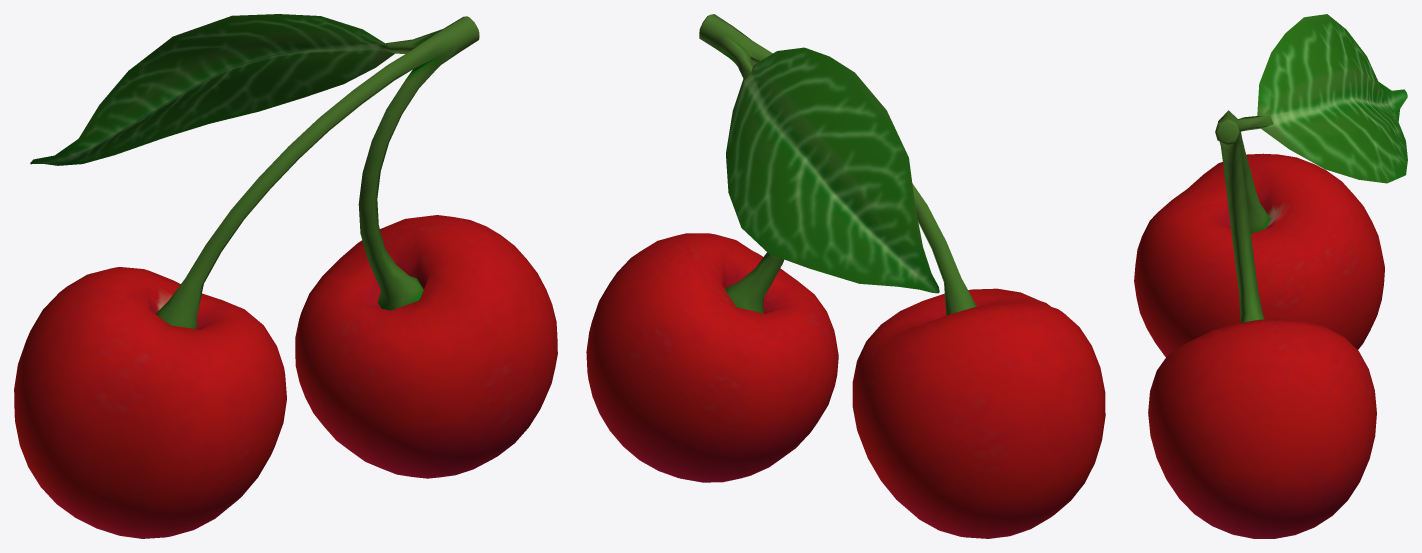
File: cherry_final.glb
3 renders of one model, left to right at view 1: azimuth 30°, elevation 25°; view 2: azimuth 150°, elevation 25°; view 3: azimuth 270°, elevation 25°, orthographic. The views are drawn at different scales.
Visible parts, largest first — view 1: cherry; view 2: cherry; view 3: cherry.
Boxes of the visible parts, x1,y1,x2,y2 form: cherry: (14, 14, 557, 538); cherry: (586, 14, 1105, 538); cherry: (1134, 14, 1407, 538).
Size of the model in its own units: 1.1 by 0.9765 by 0.5582.
Materials: 1 (1 with a texture image).
